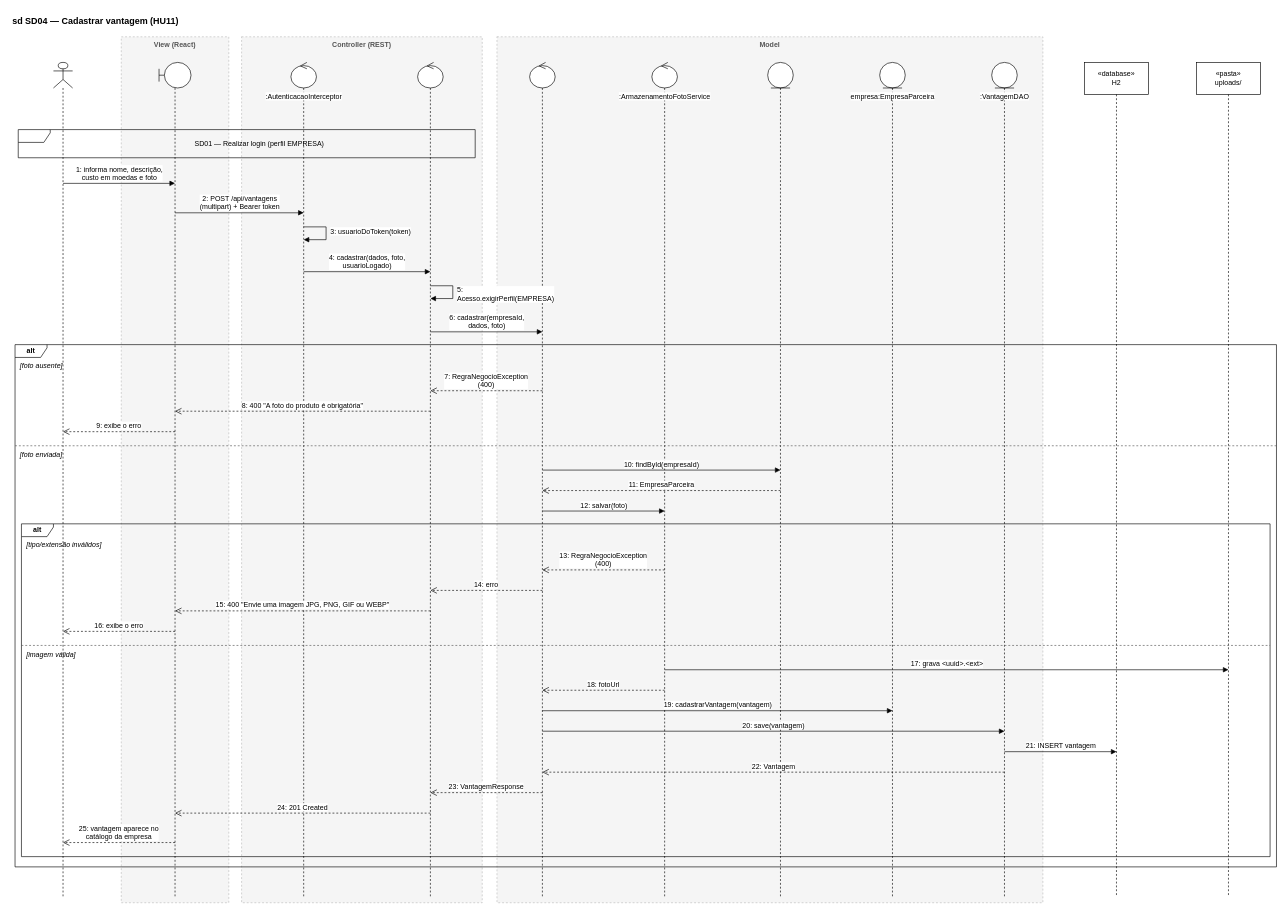
This 1288x914 diagram has some shape labels left out. The shapes that lost their labels are listed below. From the top down, each one's box as (x1, y1, x2, y2) in pixels, then its label:
(18, 129, 475, 158): ref
(53, 62, 73, 896): Empresa Parceira
(158, 62, 191, 896): EmpresaVantagens.jsx
(417, 62, 443, 896): :VantagemController
(529, 62, 555, 896): :VantagemService
(767, 62, 793, 896): :EmpresaDAO
